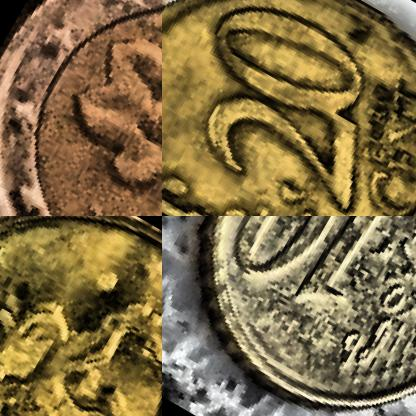coin: (162, 0, 415, 215), (162, 216, 415, 415), (0, 0, 161, 215), (0, 216, 161, 415)
